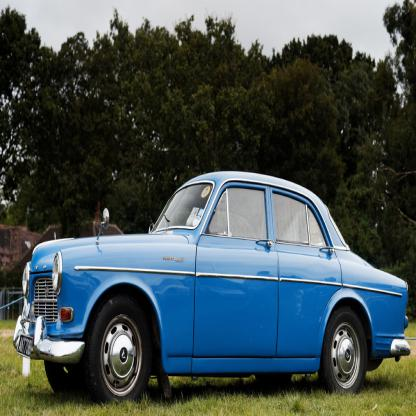Car: (13, 171, 412, 413)
